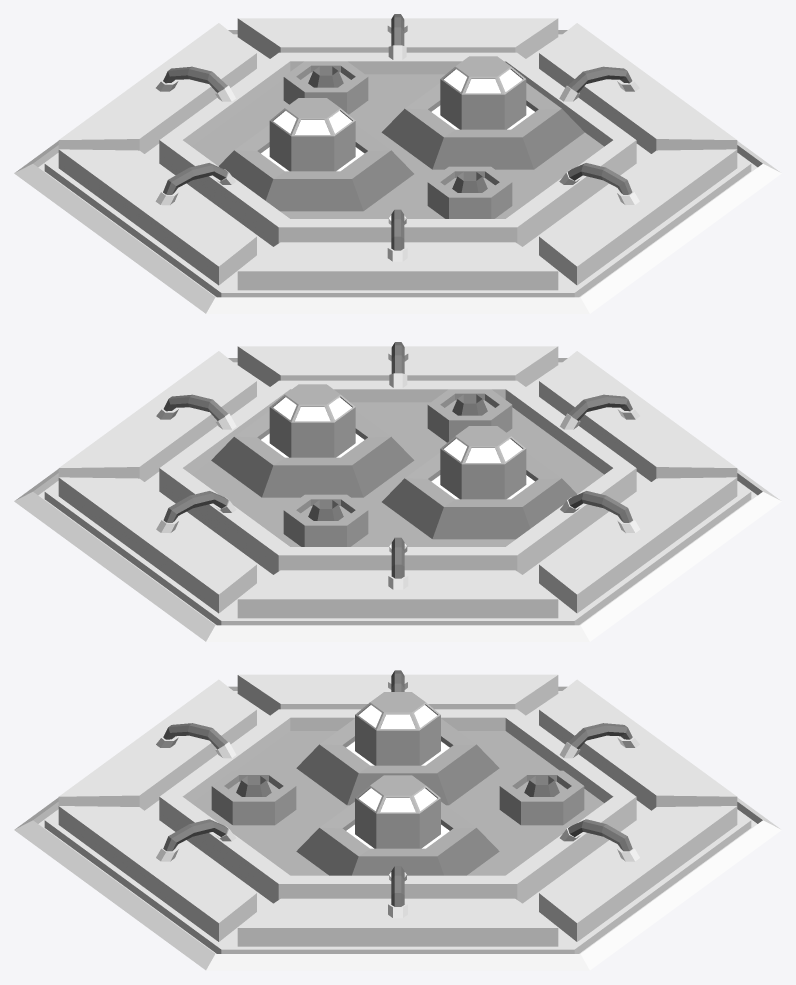
The model's file is Generator.fbx.
3 renders of one model, top to bottom at view 1: azimuth 30°, elevation 25°; view 2: azimuth 150°, elevation 25°; view 3: azimuth 270°, elevation 25°, orthographic.
Visible parts, largest first — view 1: Generator; view 2: Generator; view 3: Generator.
Boxes of the visible parts, x1=… form: Generator: x1=14, y1=14, x2=781, y2=313; Generator: x1=14, y1=342, x2=781, y2=641; Generator: x1=14, y1=670, x2=781, y2=970.
Size of the model in its own units: 214 by 30.59 by 247.
